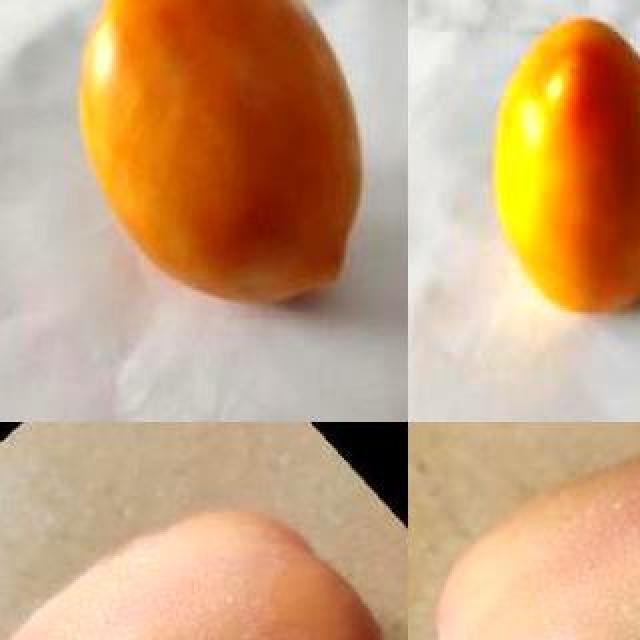Fresh_Tomato: (68, 0, 372, 322), (0, 494, 408, 640), (482, 6, 640, 328), (424, 436, 640, 640)
